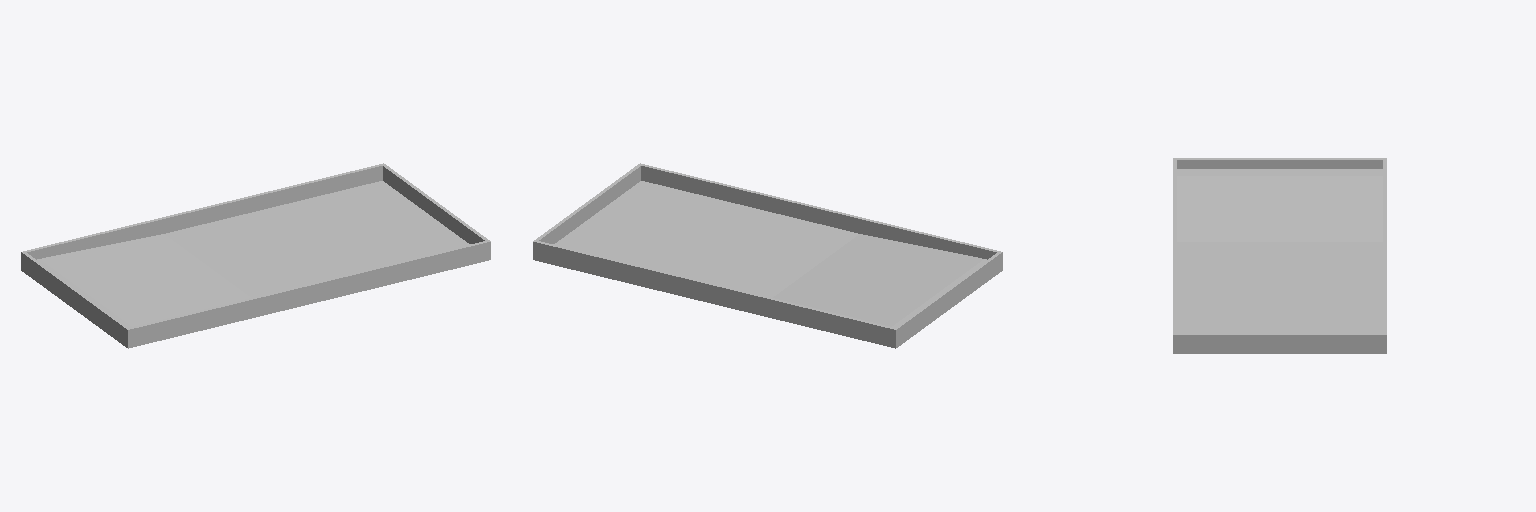
Rendered from SAUVC Pool v0.obj.
3 views of the same model, side by side, from view 1: azimuth 30°, elevation 25°; view 2: azimuth 150°, elevation 25°; view 3: azimuth 270°, elevation 25° (orthographic).
Visible parts, largest first — view 1: Body1, Body3, Body4; view 2: Body1, Body3, Body4; view 3: Body1, Body4, Body3, Body2.
Boxes of the visible parts, x1=… form: Body1: x1=22, y1=181, x2=490, y2=348; Body3: x1=21, y1=163, x2=490, y2=347; Body4: x1=40, y1=234, x2=250, y2=326; Body1: x1=535, y1=181, x2=1001, y2=348; Body3: x1=533, y1=163, x2=1002, y2=347; Body4: x1=773, y1=234, x2=983, y2=326; Body1: x1=1173, y1=242, x2=1386, y2=353; Body4: x1=1177, y1=176, x2=1382, y2=241; Body3: x1=1173, y1=158, x2=1386, y2=353; Body2: x1=1177, y1=169, x2=1382, y2=175.
Bounding box in the file's own units: 51 × 2.5 × 26.